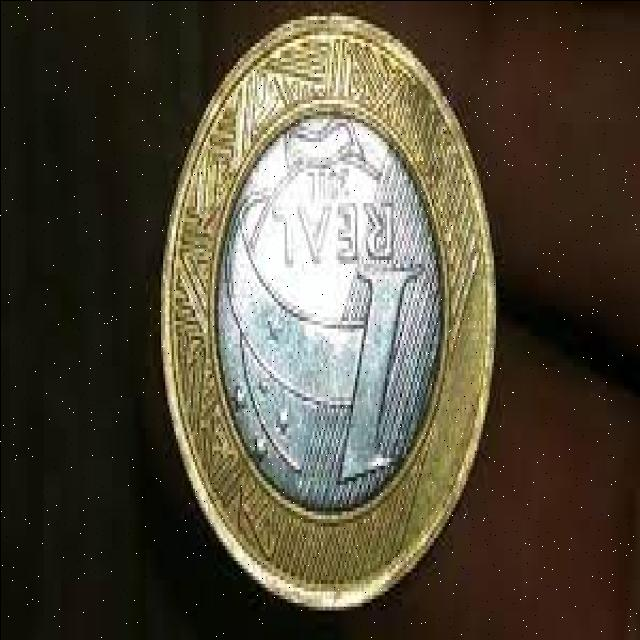1 real: (167, 22, 489, 608)
